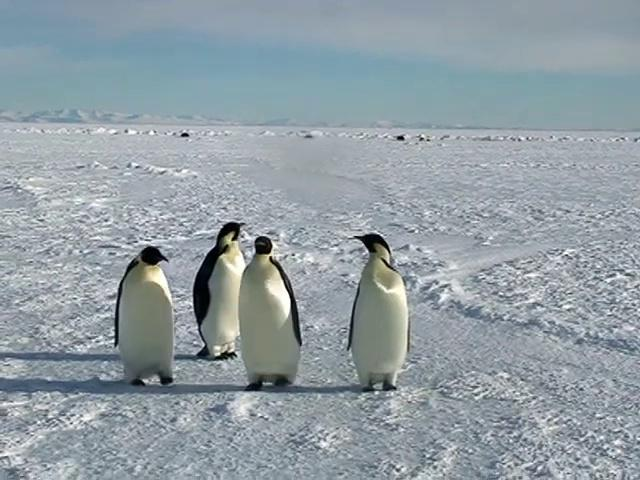animal: (348, 234, 408, 390)
